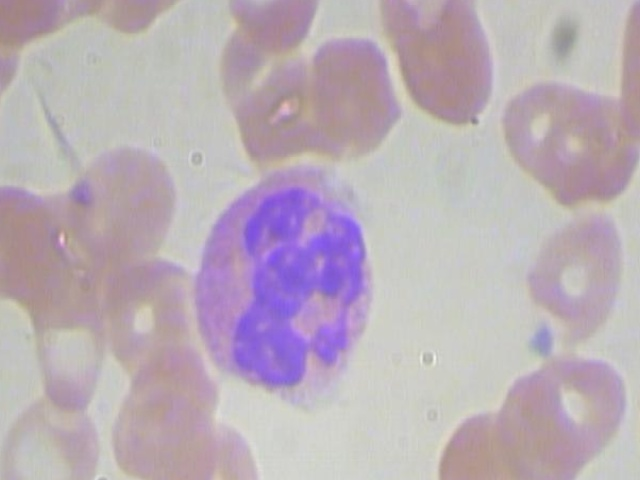Platelets: (519, 320, 560, 363)
RBC: (517, 207, 632, 344), (296, 24, 411, 160), (525, 344, 639, 480), (70, 129, 184, 265), (383, 0, 498, 133), (0, 386, 108, 480)
WBC: (174, 152, 387, 408)
